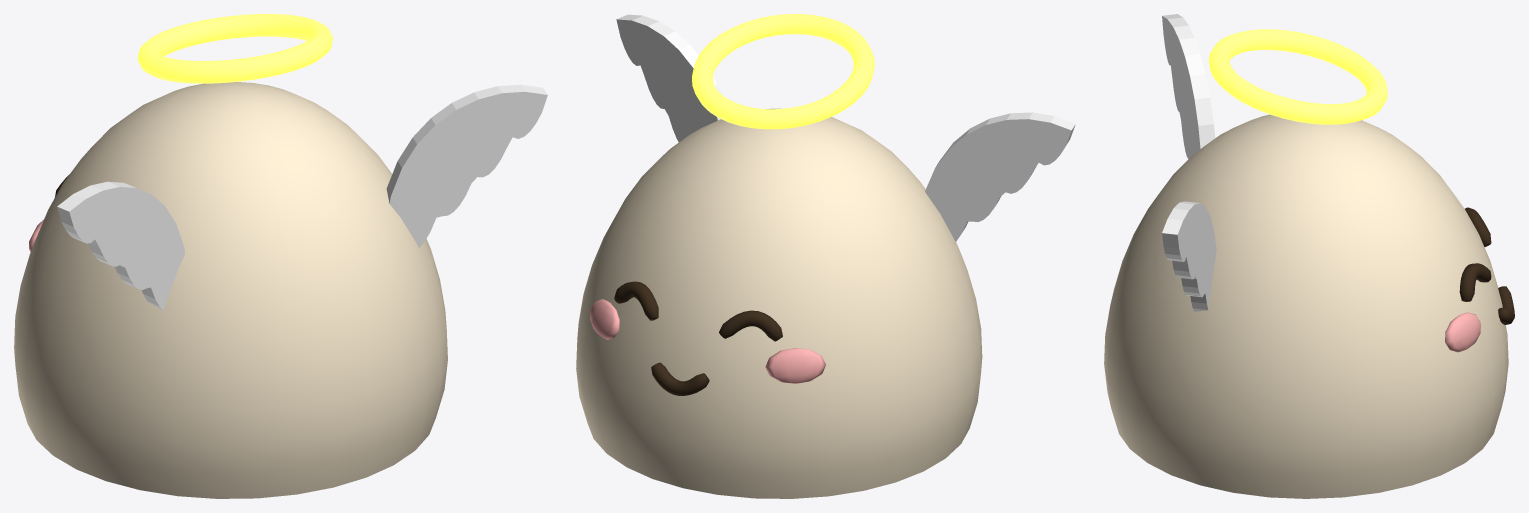
File: Angel.glb
3 views of the same model, side by side, from view 1: azimuth 30°, elevation 25°; view 2: azimuth 150°, elevation 25°; view 3: azimuth 270°, elevation 25° (orthographic). The views are drawn at different scales.
Visible parts, largest first — view 1: Body, Wings, Halo; view 2: Body, Wings, Halo, Cheeks, Eyes, Mouth; view 3: Body, Wings, Halo, Eyes, Cheeks, Mouth.
Part boxes in pixels (x1,y1,x2,y2): Body: (14, 82, 447, 498); Wings: (57, 84, 547, 310); Halo: (137, 14, 332, 83); Body: (576, 108, 982, 498); Wings: (616, 14, 1075, 241); Halo: (692, 14, 874, 129); Cheeks: (590, 299, 825, 383); Eyes: (614, 281, 782, 341); Mouth: (651, 362, 709, 395); Body: (1104, 114, 1508, 498); Wings: (1162, 14, 1216, 311); Halo: (1209, 29, 1387, 124); Eyes: (1459, 207, 1491, 301); Cheeks: (1445, 312, 1480, 352); Mouth: (1498, 286, 1514, 324).
Size of the model in its own units: 5.81 by 4.49 by 4.57.
